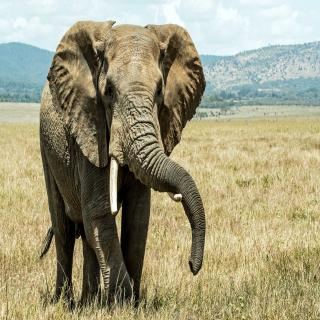Elephant: (37, 18, 218, 310)
